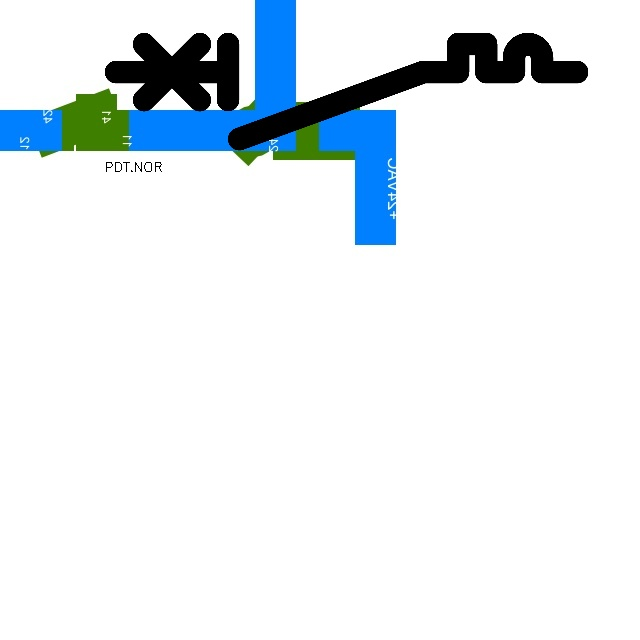interruptor_termomagnetico: (104, 32, 589, 150)
